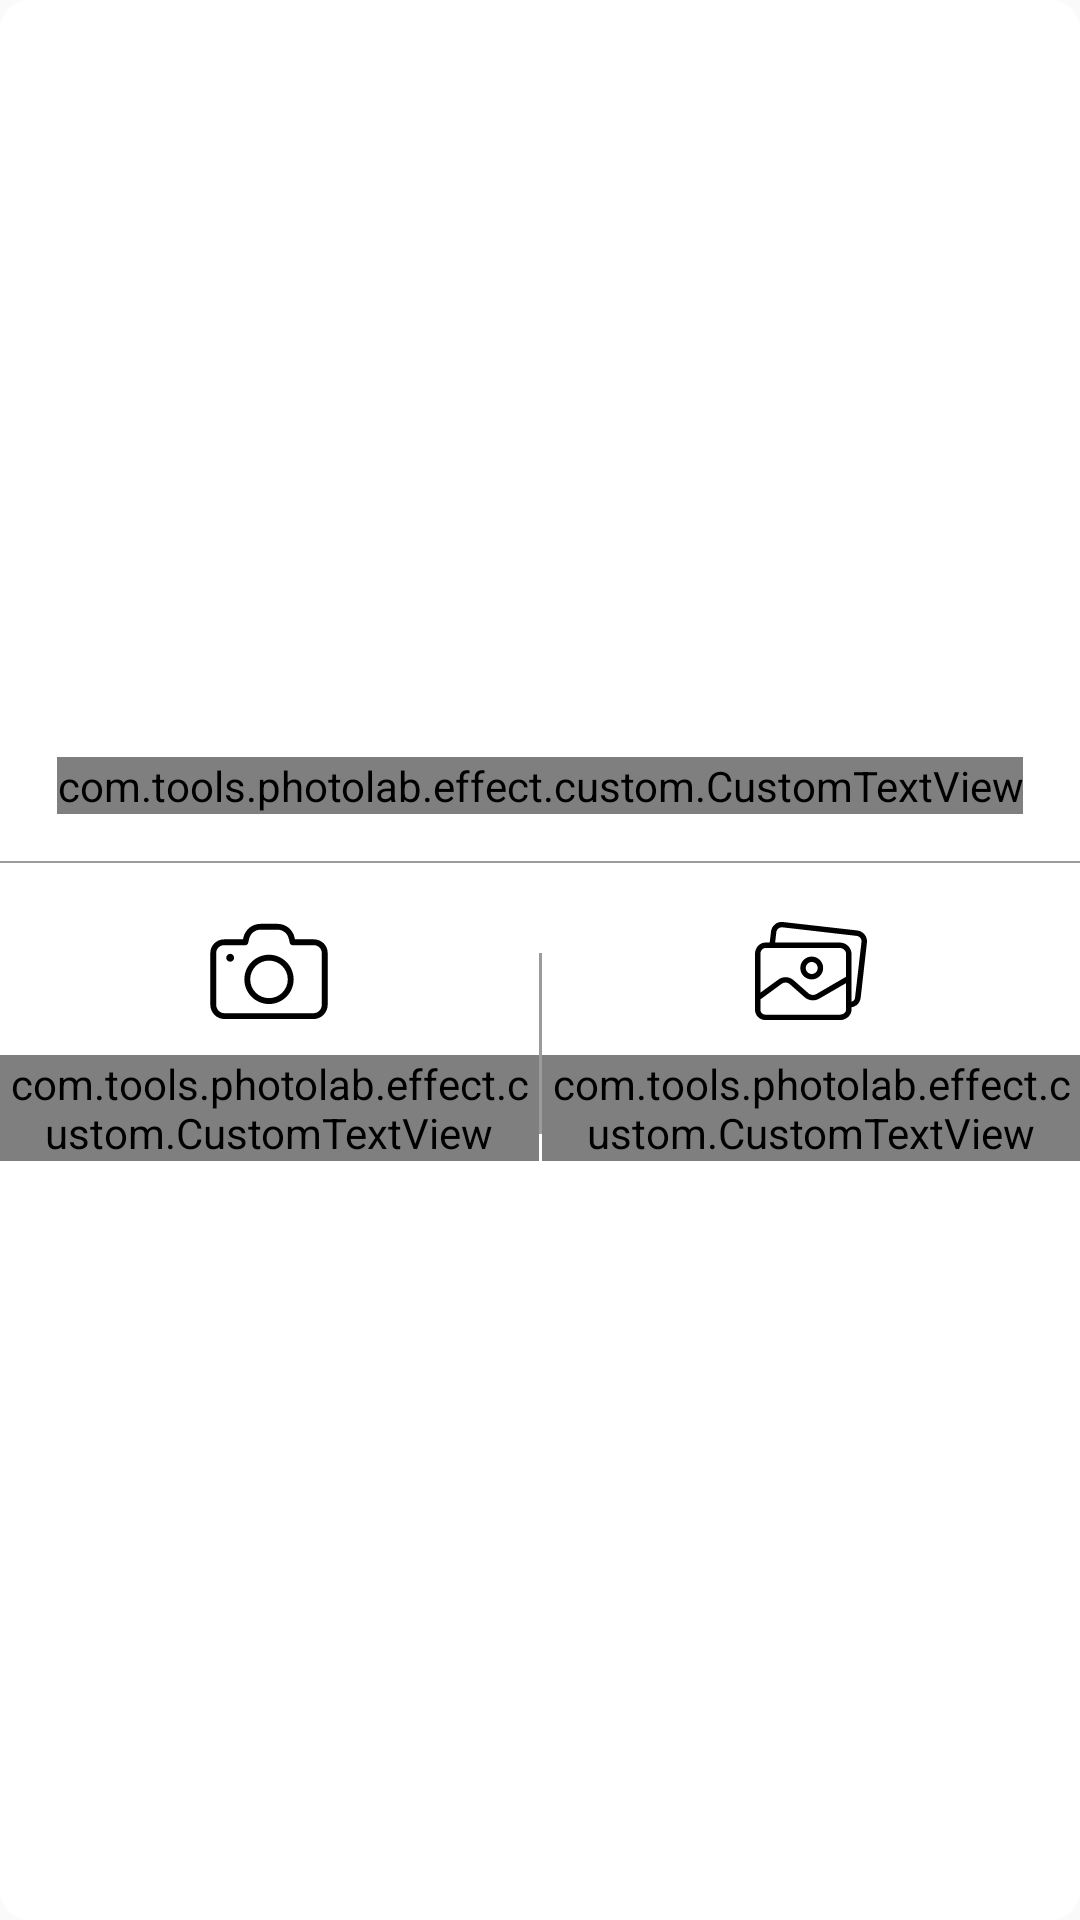

Where to tap for icons on this 1080 x 1920 app screen, as (x=x, y=y):
camera: (x=269, y=971)
gallery: (x=811, y=971)
